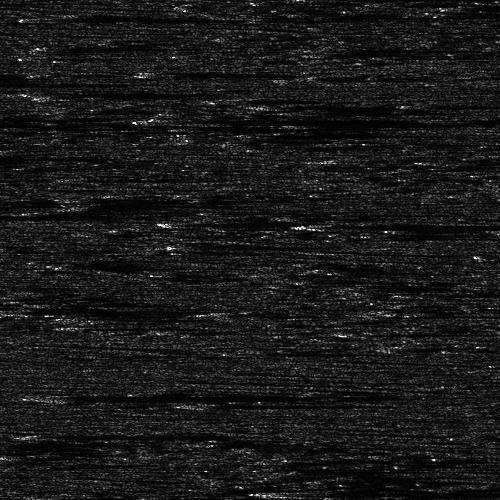object: (0, 421, 111, 446), (5, 295, 36, 322), (2, 89, 95, 98), (142, 240, 225, 249), (2, 13, 95, 20), (12, 42, 95, 49), (130, 70, 193, 77), (162, 116, 215, 123), (407, 157, 480, 162), (445, 1, 486, 6), (282, 222, 323, 227), (0, 438, 10, 445), (460, 115, 471, 120)
shadow: (53, 421, 341, 446), (21, 295, 191, 322), (188, 116, 500, 123), (0, 438, 281, 445), (49, 89, 226, 98), (49, 13, 229, 20), (184, 240, 304, 249), (303, 222, 500, 227), (162, 70, 284, 77), (54, 42, 173, 49), (0, 0, 73, 8), (0, 157, 141, 160), (0, 214, 127, 217), (443, 157, 500, 162), (465, 1, 500, 6), (465, 115, 500, 120)
